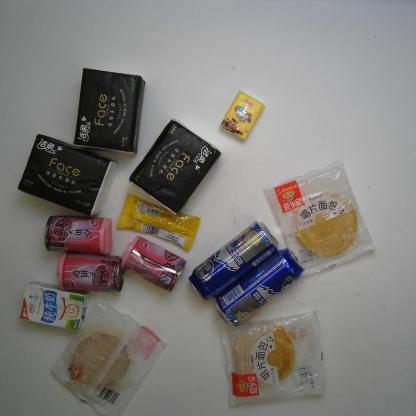Alcohol: (187, 220, 282, 303), (214, 247, 306, 329)
Canned Food: (120, 234, 186, 292), (42, 215, 115, 256), (56, 252, 126, 294)
Chocolate: (114, 191, 201, 251)
Dessert: (51, 295, 170, 416), (263, 157, 379, 279), (218, 310, 328, 407)
Milk: (16, 279, 86, 333)
Tissue: (130, 116, 222, 214), (16, 131, 119, 217), (72, 67, 146, 156), (220, 89, 266, 141)
